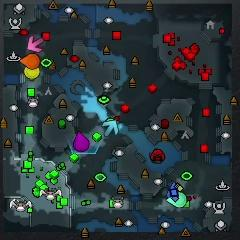p1: (166, 182, 180, 200)
p2: (166, 193, 187, 207)
p3: (73, 132, 90, 152)
p4: (23, 66, 40, 80)
p5: (19, 54, 40, 70)
x1: (27, 36, 43, 52)
x3: (103, 120, 119, 137)
